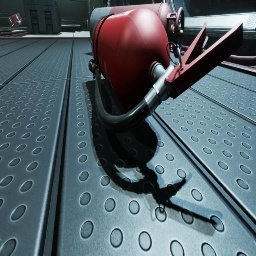FireExtinguisher ]: (89, 8, 243, 134)
FirstAidBox ,: (8, 13, 23, 30)
NitrogenTank ,: (89, 2, 185, 58), (27, 25, 27, 25)
